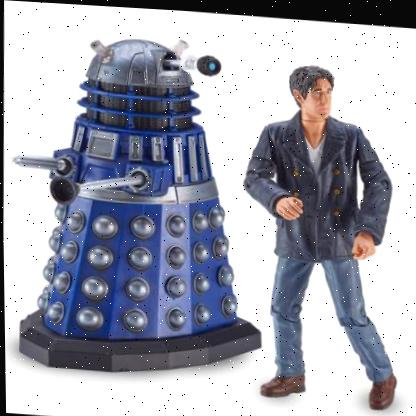dalek: (5, 15, 255, 403)
person: (240, 40, 416, 416)
